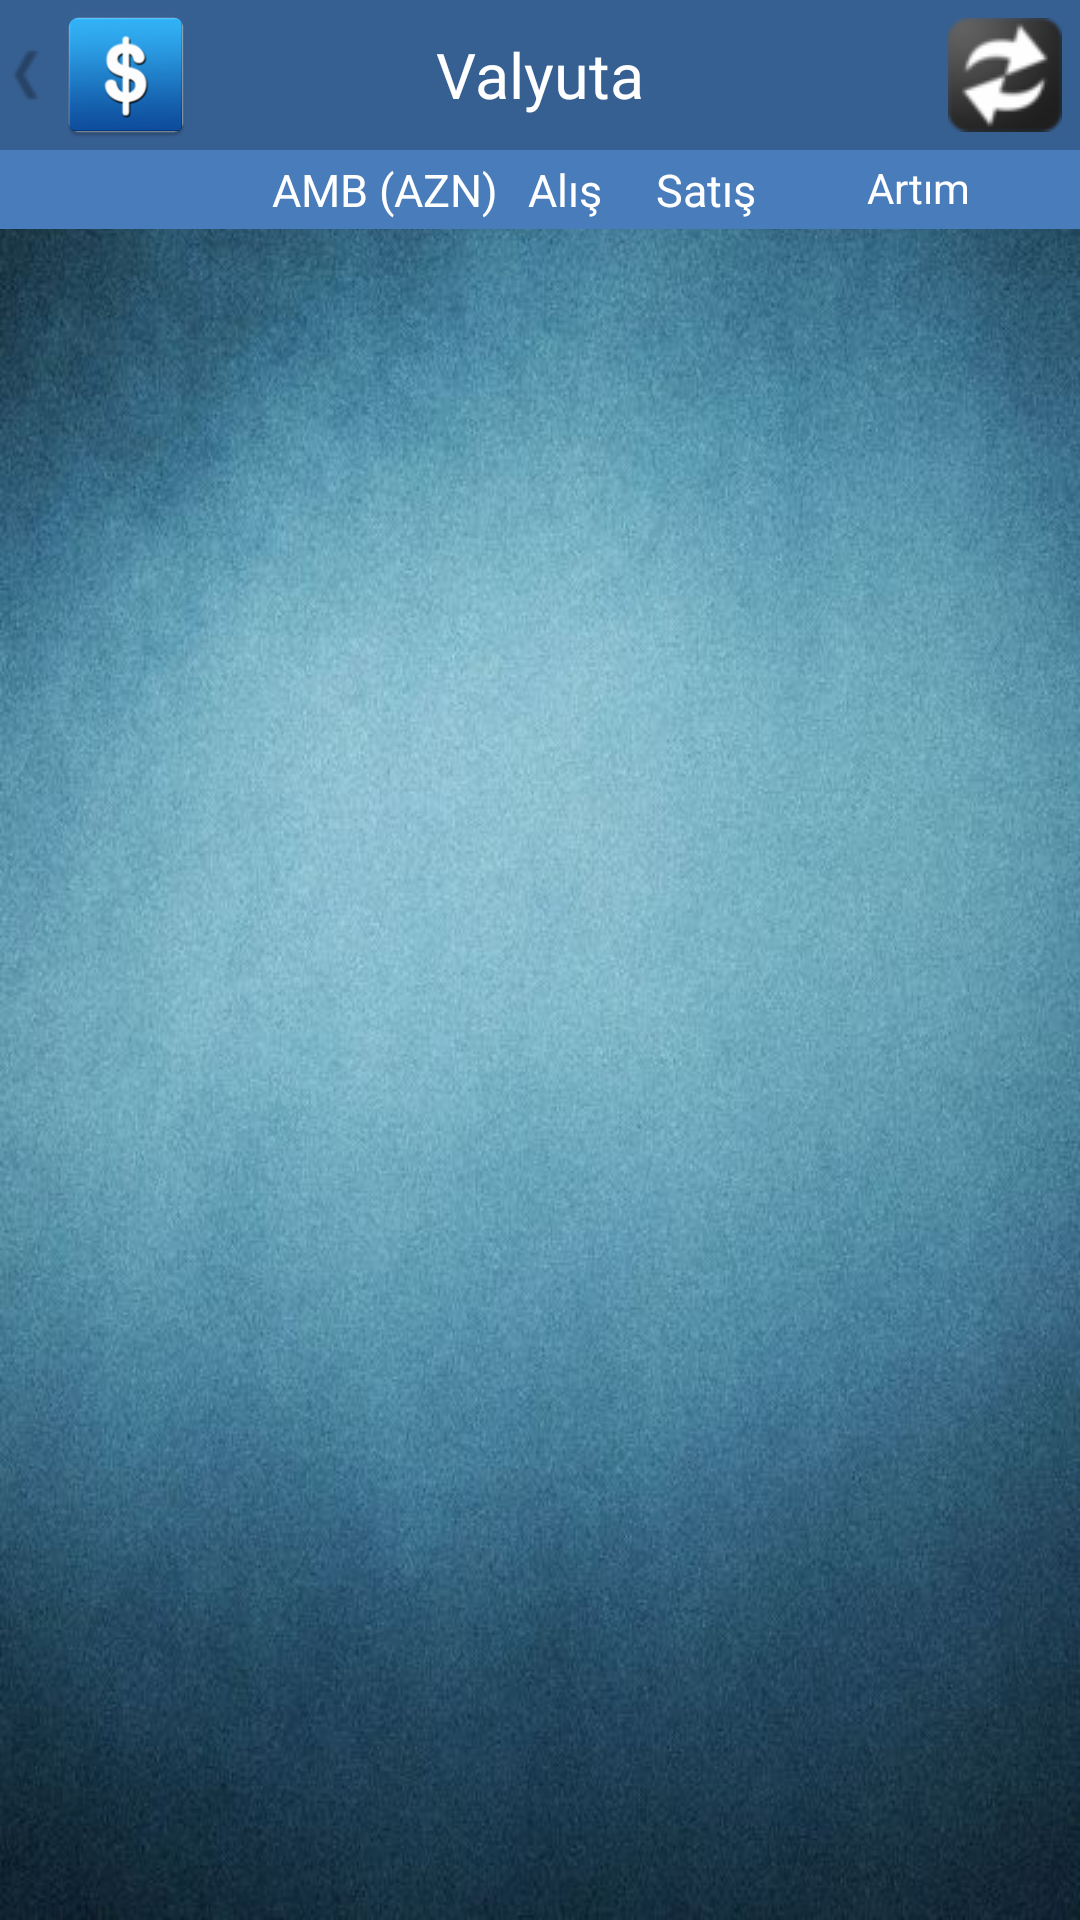

Point at icon controls on the screen. Image size 1080w x 1920h, points as [x,y].
arrow: [26,75]
reload: [1005,75]
